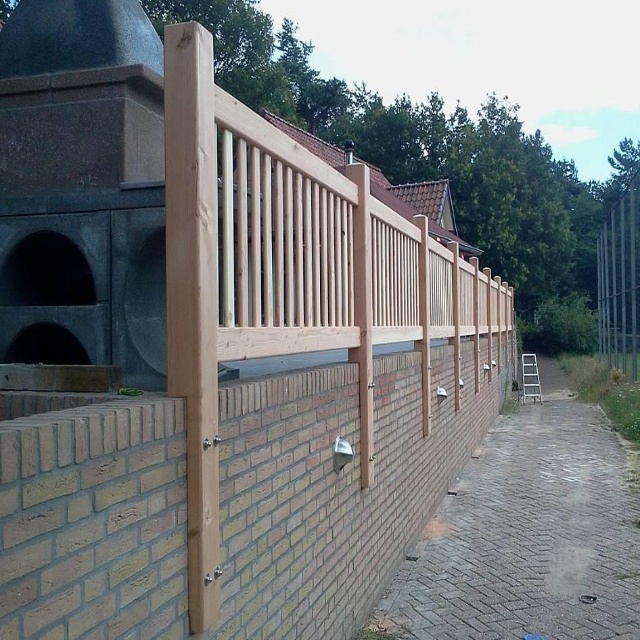obstacle: (1, 0, 575, 499)
